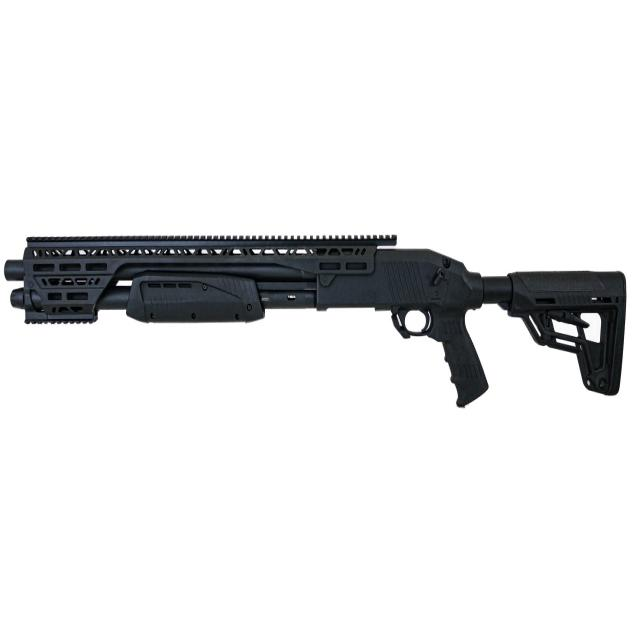ShotGun: (4, 233, 628, 408)
